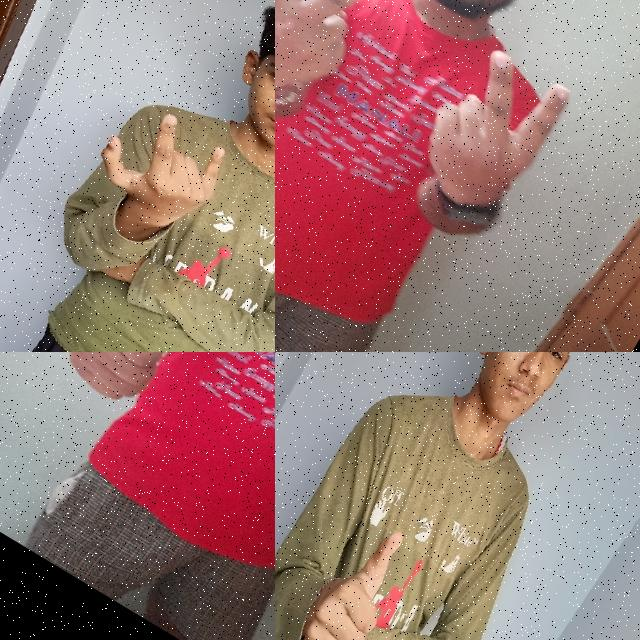Corna: (78, 84, 257, 256)
Reversed Victory: (387, 29, 592, 245), (275, 0, 407, 137)
Thumbs Up: (277, 502, 432, 640), (45, 352, 225, 426)
